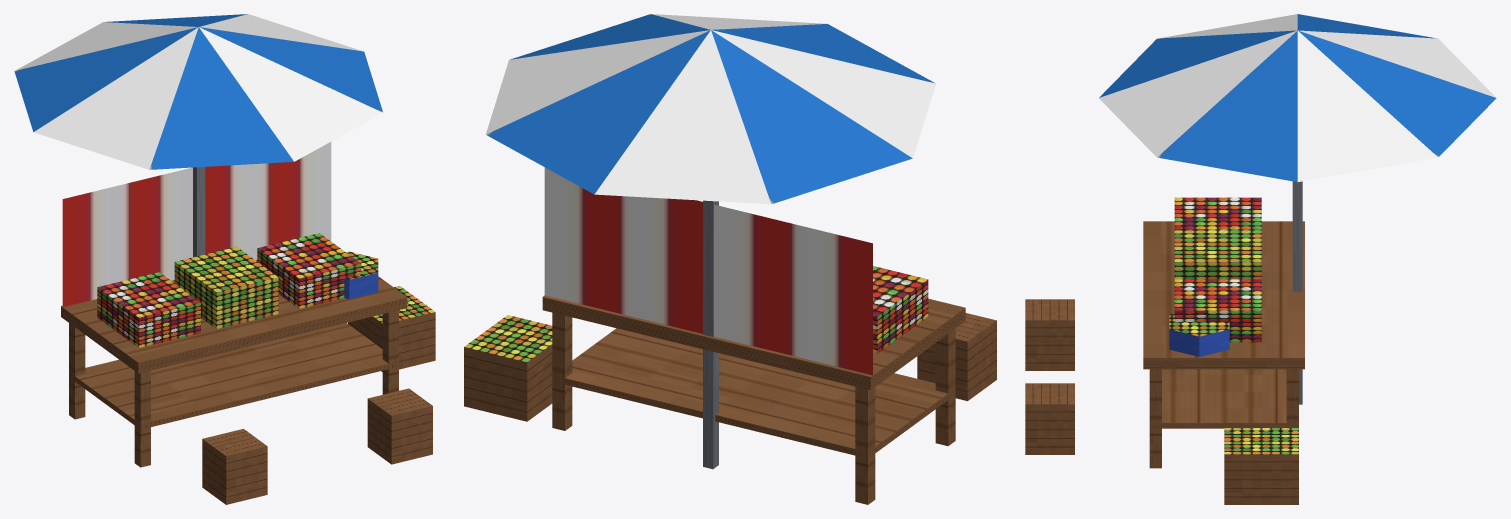
The model's file is stall-red-far.glb.
3 renders of one model, left to right at view 1: azimuth 30°, elevation 25°; view 2: azimuth 150°, elevation 25°; view 3: azimuth 270°, elevation 25°, orthographic. The views are drawn at different scales.
Parts seen in each view (by area): view 1: stall-red-far; view 2: stall-red-far; view 3: stall-red-far.
Boxes of the visible parts, x1=… form: stall-red-far: x1=14, y1=14, x2=435, y2=504; stall-red-far: x1=464, y1=14, x2=996, y2=504; stall-red-far: x1=1025, y1=14, x2=1496, y2=504.
Bounding box in the file's own units: 3.55 × 3.3 × 3.79.
1 material, 1 textured.
